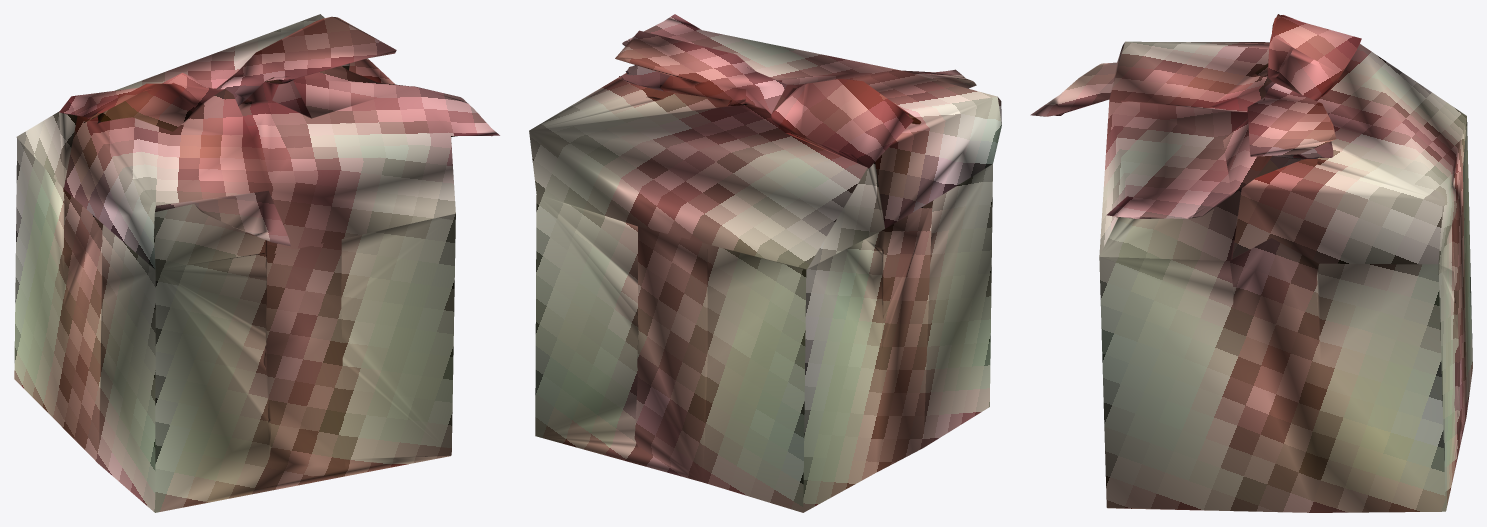
File: KS_Chocolate_Cube_Box_Assortment_By_Neuhaus_2010_Ounces-low.glb
The picture shows the model from 3 angles, left to right: view 1: azimuth 30°, elevation 25°; view 2: azimuth 150°, elevation 25°; view 3: azimuth 270°, elevation 25°; orthographic projection. The views are drawn at different scales.
Visible parts, largest first — view 1: KS_Chocolate_Cube_Box_Assortment_By_Neuhaus_2010_Ounces; view 2: KS_Chocolate_Cube_Box_Assortment_By_Neuhaus_2010_Ounces; view 3: KS_Chocolate_Cube_Box_Assortment_By_Neuhaus_2010_Ounces.
Boxes of the visible parts, x1=… form: KS_Chocolate_Cube_Box_Assortment_By_Neuhaus_2010_Ounces: x1=14, y1=14, x2=499, y2=512; KS_Chocolate_Cube_Box_Assortment_By_Neuhaus_2010_Ounces: x1=529, y1=14, x2=1001, y2=512; KS_Chocolate_Cube_Box_Assortment_By_Neuhaus_2010_Ounces: x1=1030, y1=14, x2=1472, y2=512.
Size of the model in its own units: 0.1697 by 0.1719 by 0.1826.
1 material, 1 textured.
